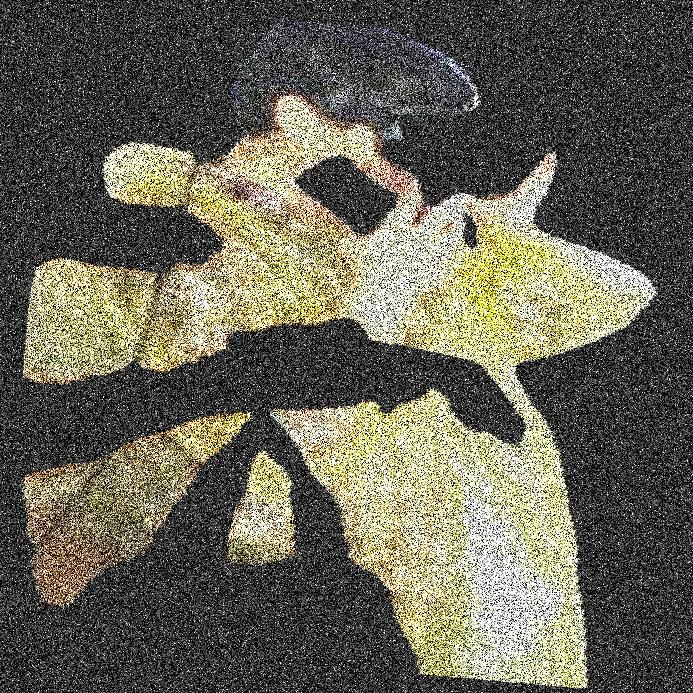Pessoa: (411, 0, 608, 692)
